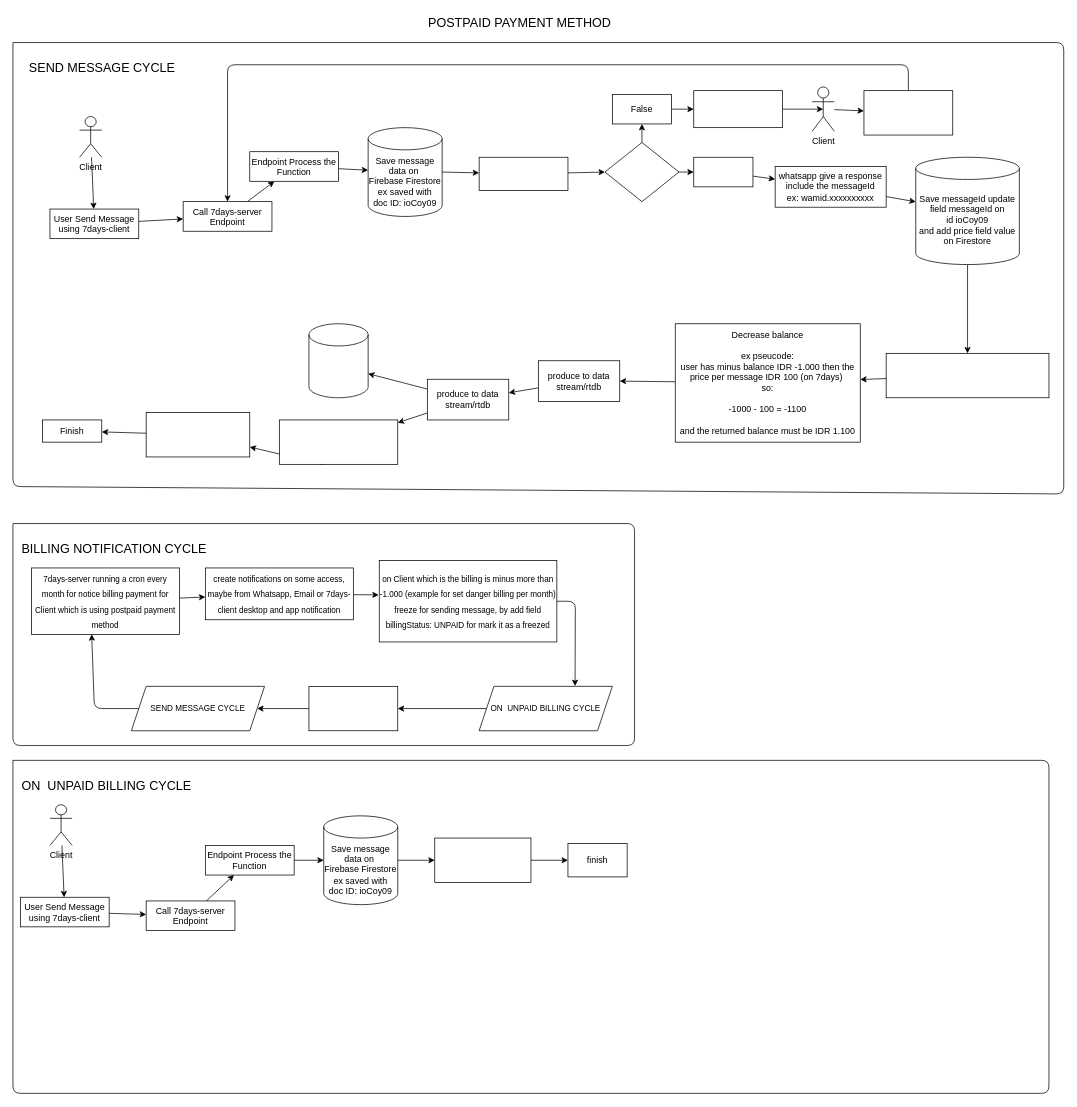
Image size: 1077x1107. Some labels were removed from this diagram. Here are the shapes that lost their labels. From the top down, the box of each, then its label:
(693, 90, 783, 128): Send error send message to 7days-client
(863, 90, 953, 135): Click retry send message
(478, 157, 568, 191): Request send message to Whatsapp
(604, 142, 679, 202): isSuccess ?
(693, 157, 753, 187): True
(308, 323, 368, 398): update client balance
(885, 353, 1049, 398): Request descrease balance by fixed price on 7days
(145, 412, 250, 457): socket on 7days-client trigger currentBalance
(279, 419, 398, 464): send to 7days-server socket for client currentBalance (after decrease)
(308, 686, 398, 731): Client Pay the billing
(434, 837, 531, 882): send error cause by billingStatus: UNPAID
